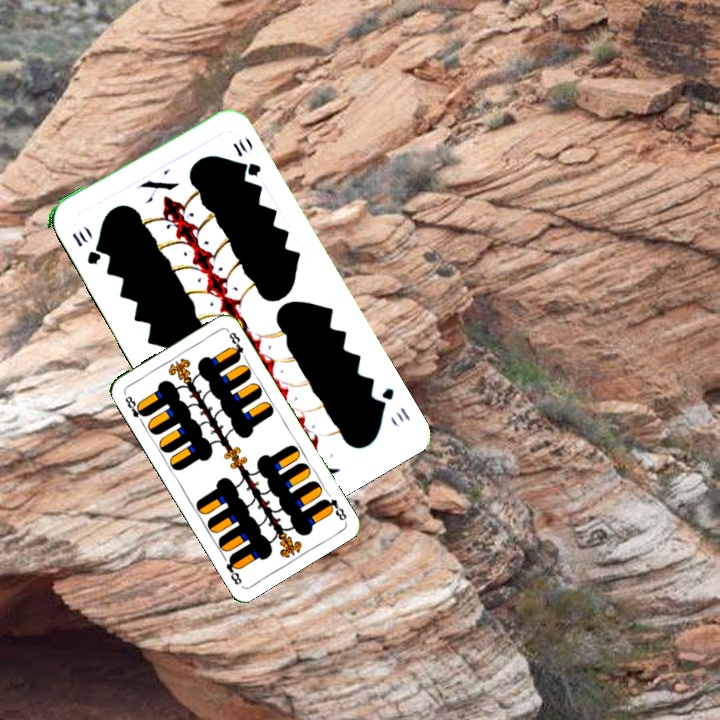E8: (121, 392, 149, 427), (319, 495, 349, 523)
G10: (372, 383, 413, 425), (68, 227, 104, 267)
